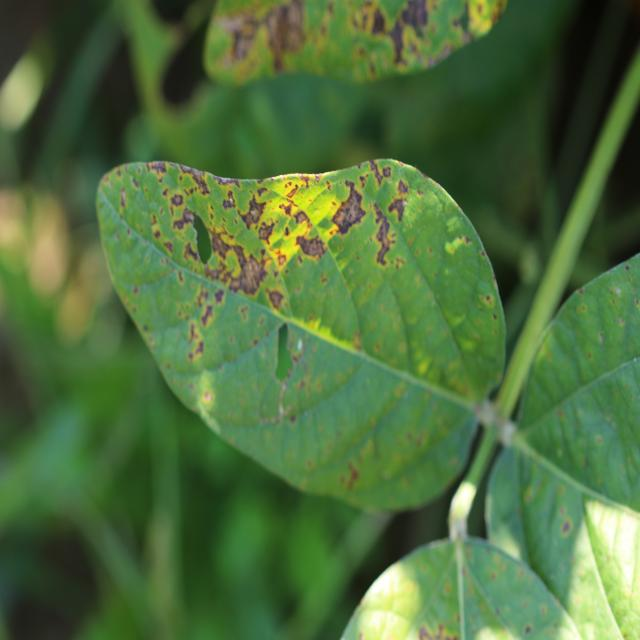Bacterial_Blight: (367, 1, 440, 69), (204, 229, 267, 294), (263, 1, 309, 69), (328, 178, 369, 245), (330, 180, 367, 233), (396, 0, 432, 39), (372, 205, 395, 263), (237, 192, 268, 230), (295, 232, 327, 260), (184, 169, 212, 196), (210, 230, 233, 262), (387, 192, 409, 223), (172, 206, 196, 232), (369, 161, 391, 187), (368, 5, 387, 34), (343, 462, 360, 491), (257, 220, 277, 244), (267, 289, 286, 312), (183, 241, 200, 265), (294, 210, 312, 229), (200, 304, 214, 328), (280, 201, 295, 217)
Soybean: (97, 160, 505, 510)
